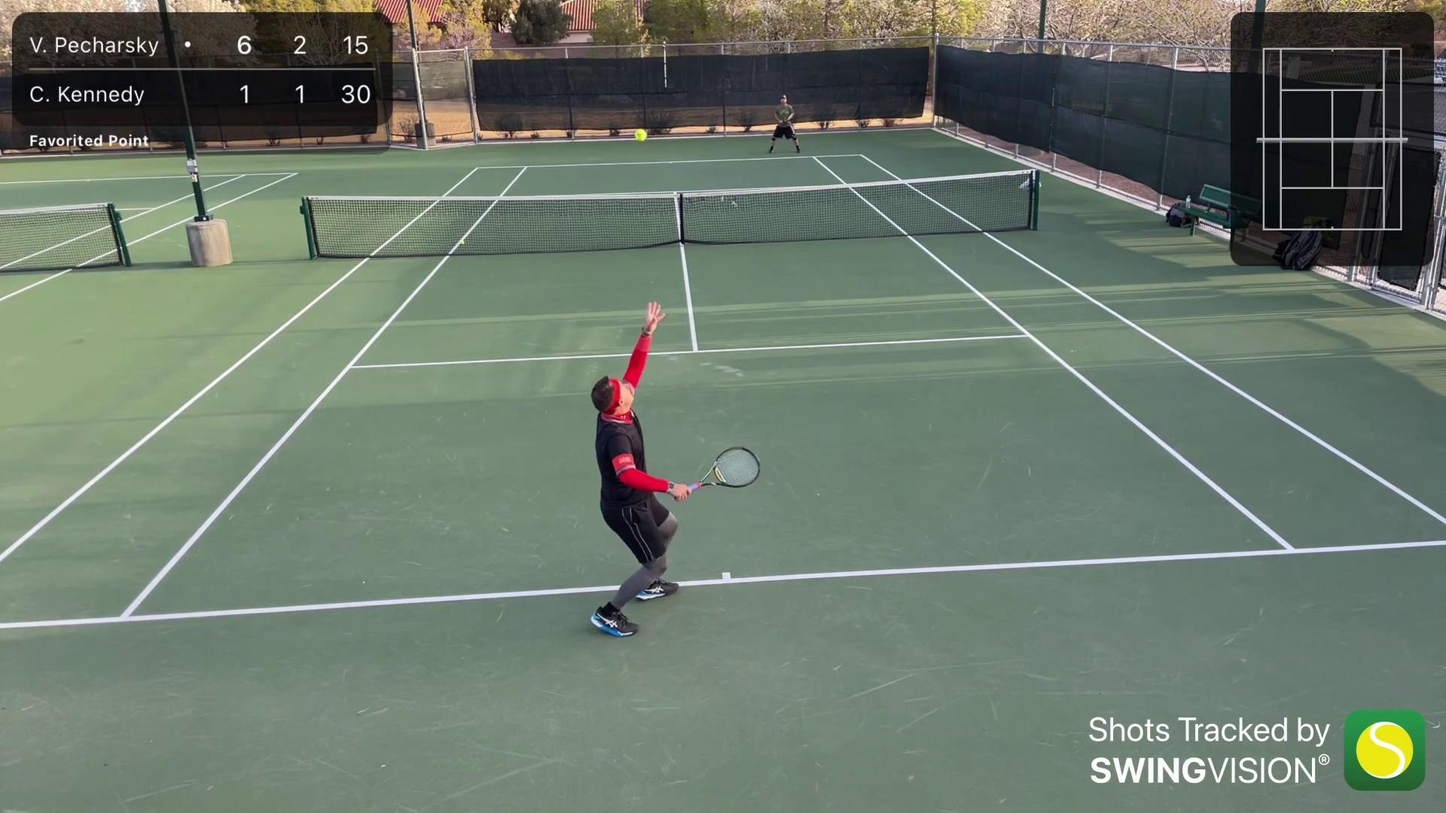ball: (631, 126, 650, 142)
